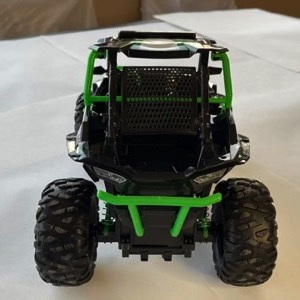polaris: (32, 30, 281, 290)
